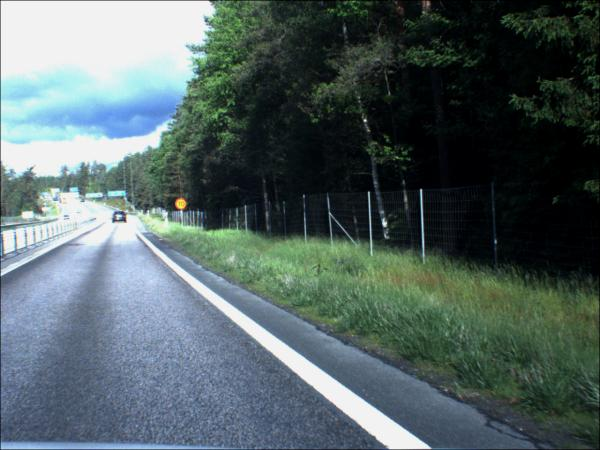70_SIGN: (176, 199, 189, 211)
